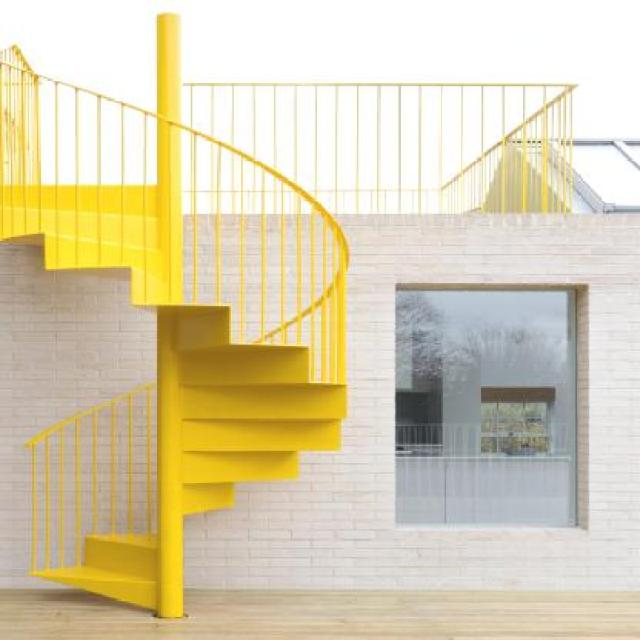stair: (0, 84, 372, 630)
